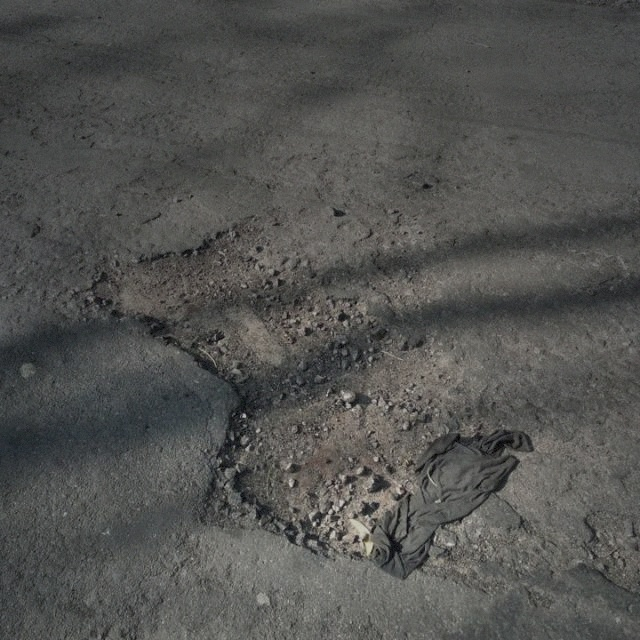pothole: (83, 214, 478, 570)
